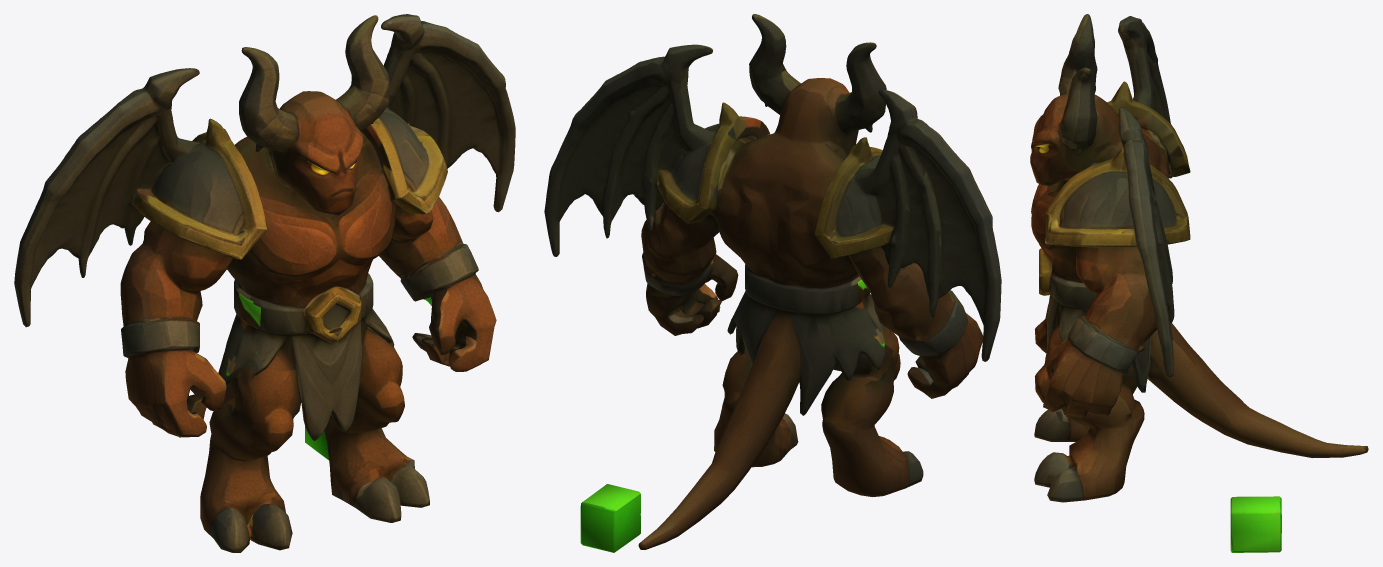
Rendered from rock_demon.glb.
The picture shows the model from 3 angles, left to right: view 1: azimuth 30°, elevation 25°; view 2: azimuth 150°, elevation 25°; view 3: azimuth 270°, elevation 25°; orthographic projection. The views are drawn at different scales.
Parts seen in each view (by area): view 1: Demon Character; view 2: Demon Character; view 3: Demon Character.
Boxes of the visible parts, x1,y1,x2,y2 form: Demon Character: (14,14,515,552); Demon Character: (544,14,1001,552); Demon Character: (1030,14,1368,552).
Size of the model in its own units: 1.82 by 1.82 by 1.24.
Materials: 1 (1 with a texture image).
